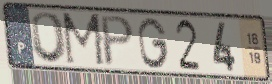2: (173, 18, 202, 73)
4: (211, 21, 238, 74)
G: (136, 16, 171, 71)
M: (60, 11, 108, 69)
O: (29, 11, 70, 65)
P: (99, 14, 137, 69)
